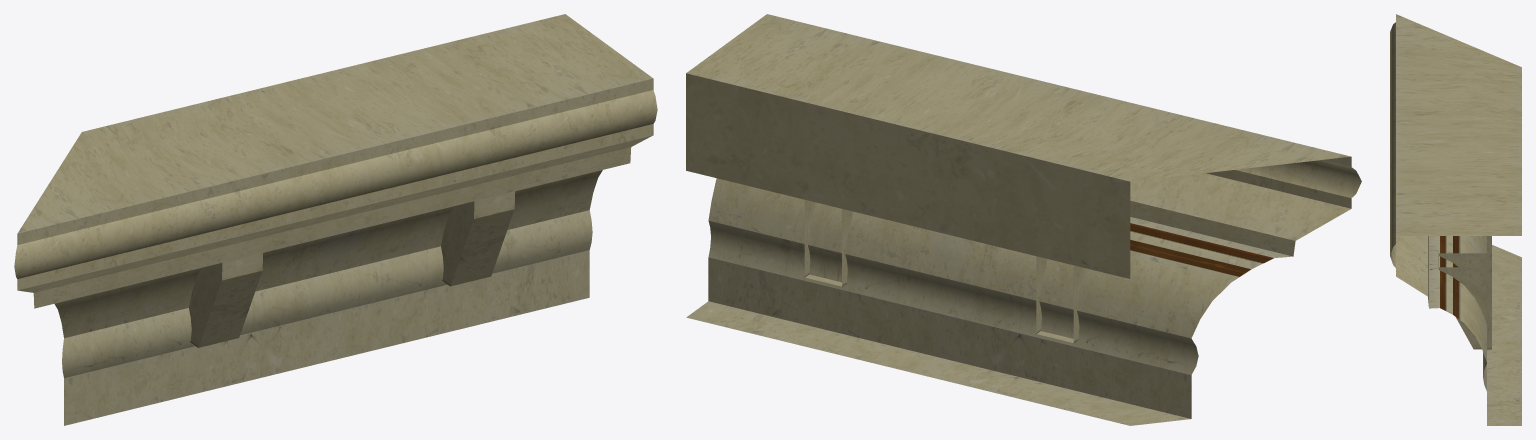
The model's file is Cornice_Trim_L.gltf.
3 renders of one model, left to right at view 1: azimuth 30°, elevation 25°; view 2: azimuth 150°, elevation 25°; view 3: azimuth 270°, elevation 25°, orthographic. The views are drawn at different scales.
Parts seen in each view (by area): view 1: Cornice_Trim_L; view 2: Cornice_Trim_L; view 3: Cornice_Trim_L.
Boxes of the visible parts, x1,y1,x2,y2 form: Cornice_Trim_L: (14, 14, 657, 425); Cornice_Trim_L: (686, 14, 1361, 425); Cornice_Trim_L: (1390, 14, 1521, 425).
Size of the model in its own units: 2.53 by 0.9984 by 0.6278.
1 material, 1 textured.
